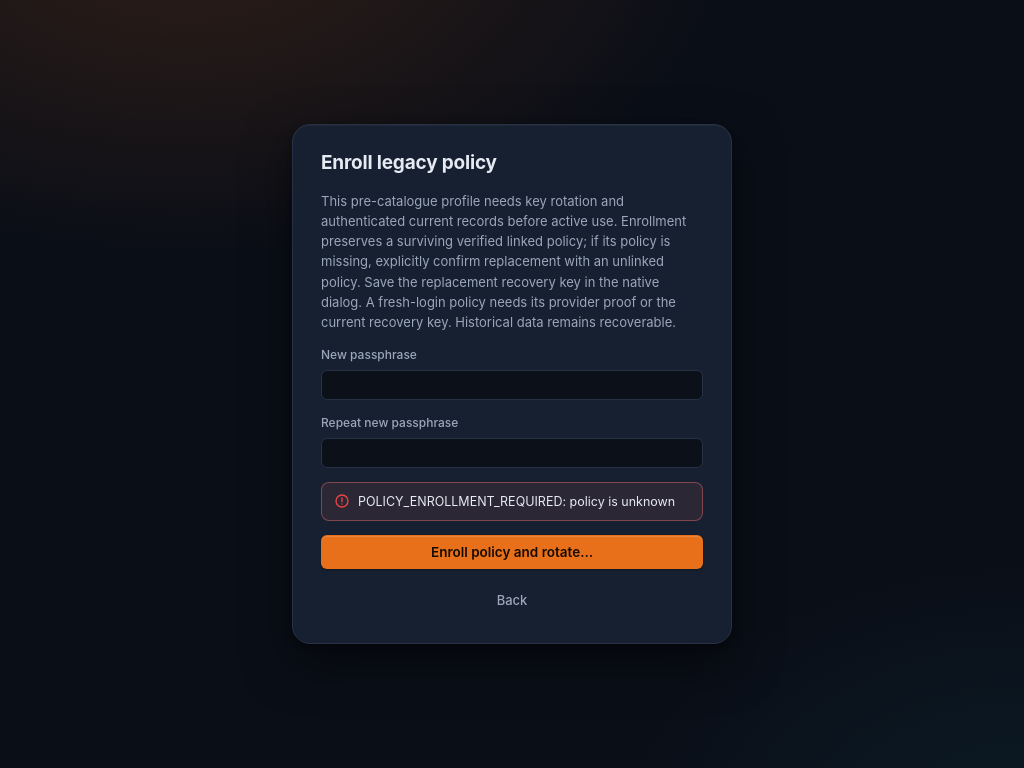
Test: legacy policy enrollment › keeps native enrollment refusal on the consent screen without unlocking
The image size is (1024, 768).
Expected: the heading "Enroll legacy policy" is shown, 321,151 -> 497,174
Type "replacement passphrase" into the password field labelled "New passphrase".
click(512, 385); type("replacement passphrase")  # box 321,370 -> 703,400
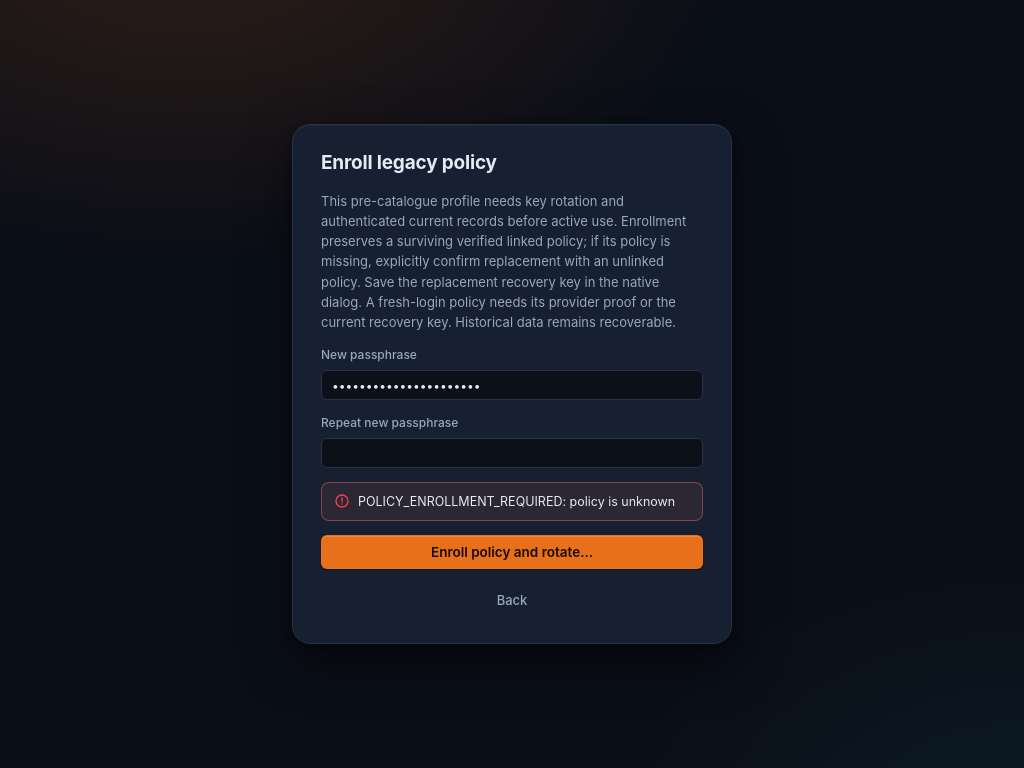
Type "replacement passphrase" into the password field labelled "Repeat new passphrase".
click(512, 453); type("replacement passphrase")  # box 321,438 -> 703,468
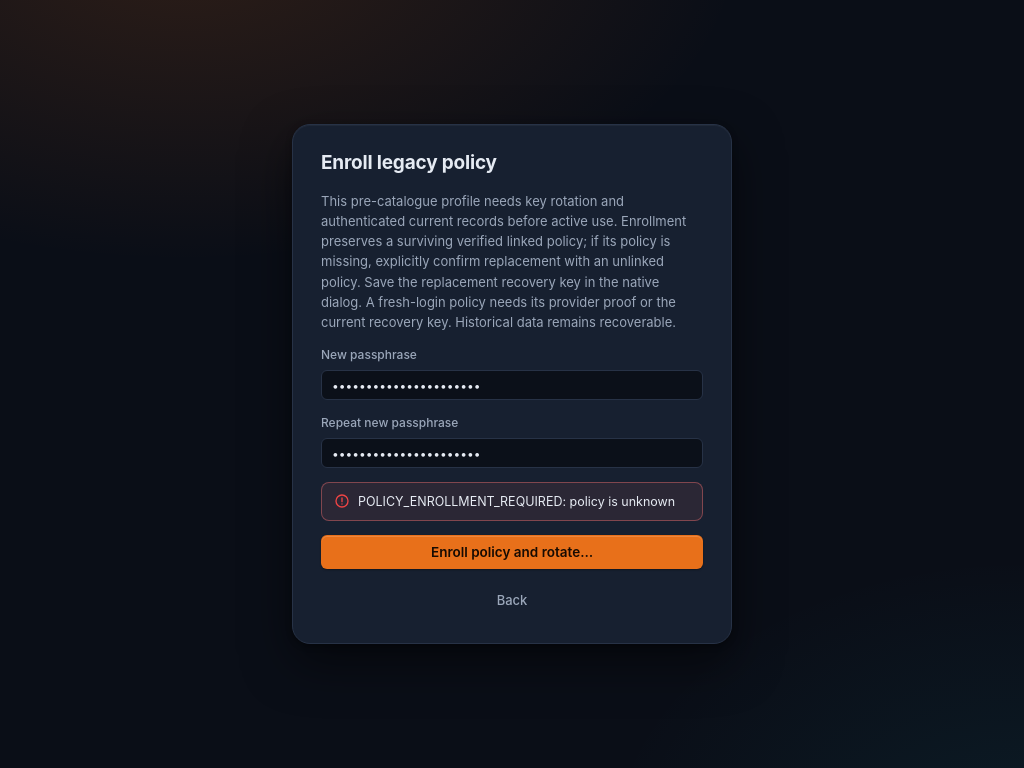
Click the button "Enroll policy and rotate…".
click(512, 552)  # box 321,535 -> 703,569
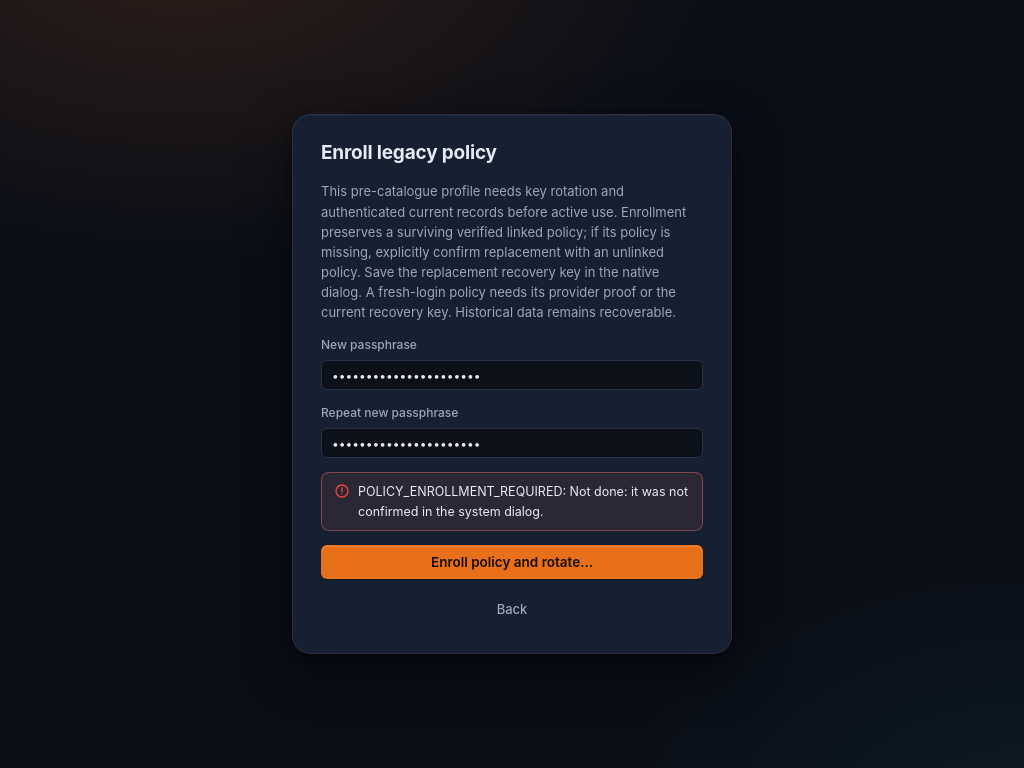
Expected: the heading "Enroll legacy policy" is shown, 321,141 -> 497,164
Expected: the text "POLICY_ENROLLMENT_REQUIRED: Not done: it was not confirmed in the system dialog." is shown, 321,472 -> 703,531
